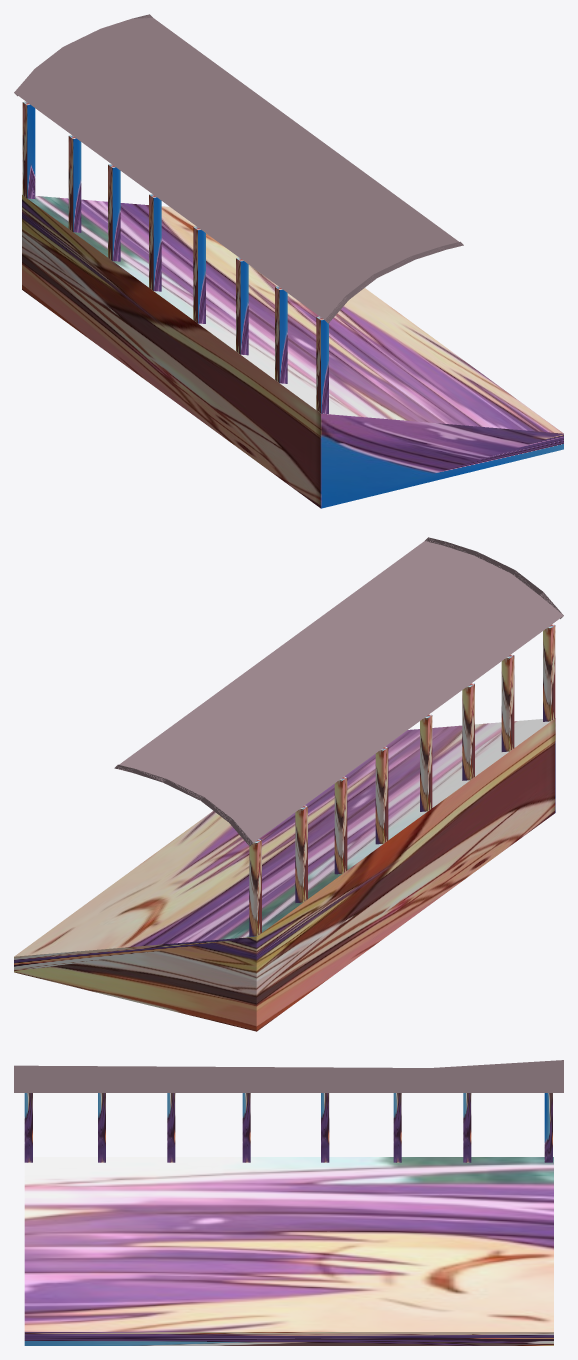
The model's file is strad.gltf.
3 renders of one model, top to bottom at view 1: azimuth 30°, elevation 25°; view 2: azimuth 150°, elevation 25°; view 3: azimuth 270°, elevation 25°, orthographic. The views are drawn at different scales.
Parts seen in each view (by area): view 1: Cube; view 2: Cube; view 3: Cube.
Boxes of the visible parts, x1=… form: Cube: x1=14, y1=14, x2=563, y2=508; Cube: x1=14, y1=537, x2=563, y2=1031; Cube: x1=14, y1=1060, x2=563, y2=1345.
Size of the model in its own units: 162 by 150 by 355.
Materials: 1 (1 with a texture image).
